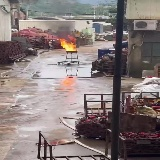fire: (56, 35, 77, 51)
